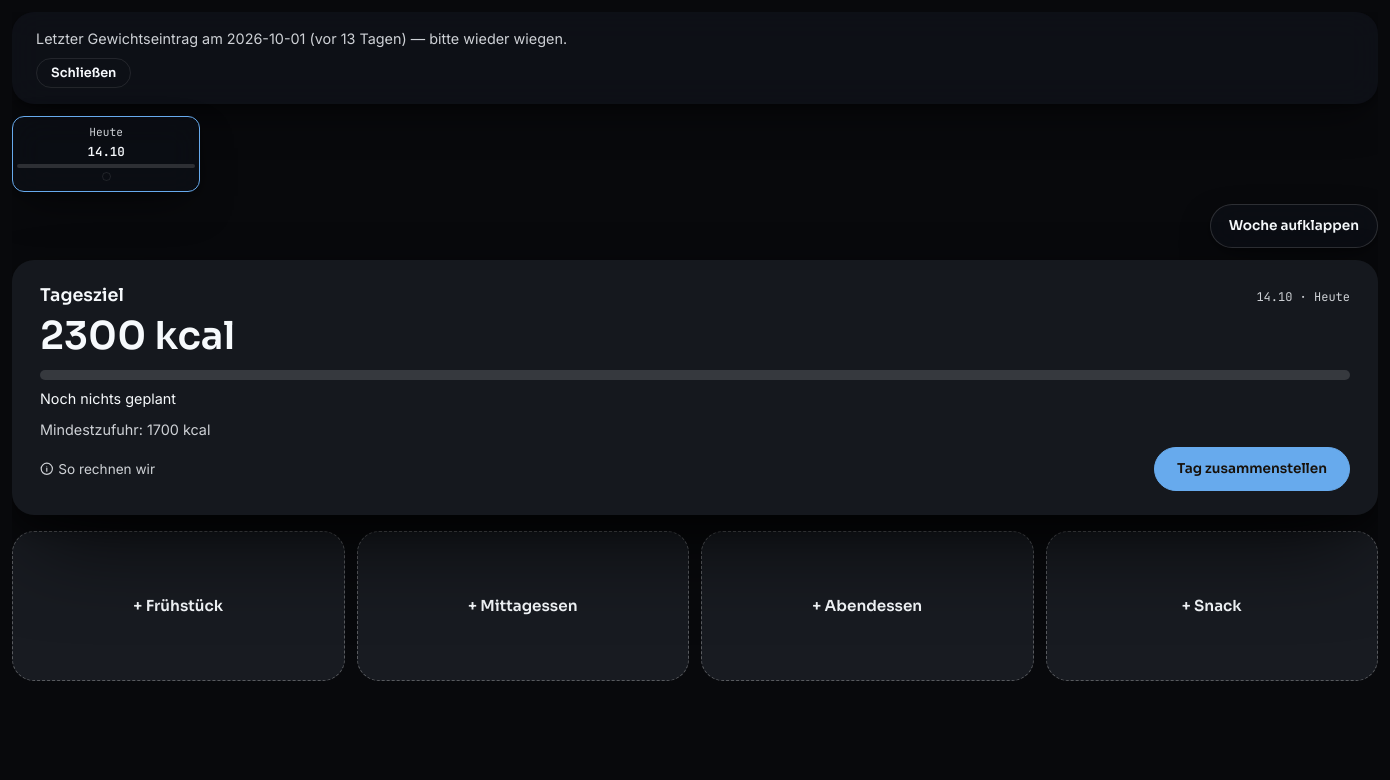
WeekView — Banner › lässt sich wegklicken und bleibt für diesen Tag weg
This screenshot has width=1390, height=780.
expect the text "bitte wieder wiegen" is shown: met, box 36,30 -> 567,47
Click the button "Schließen": (84, 73) 36,58 -> 131,88
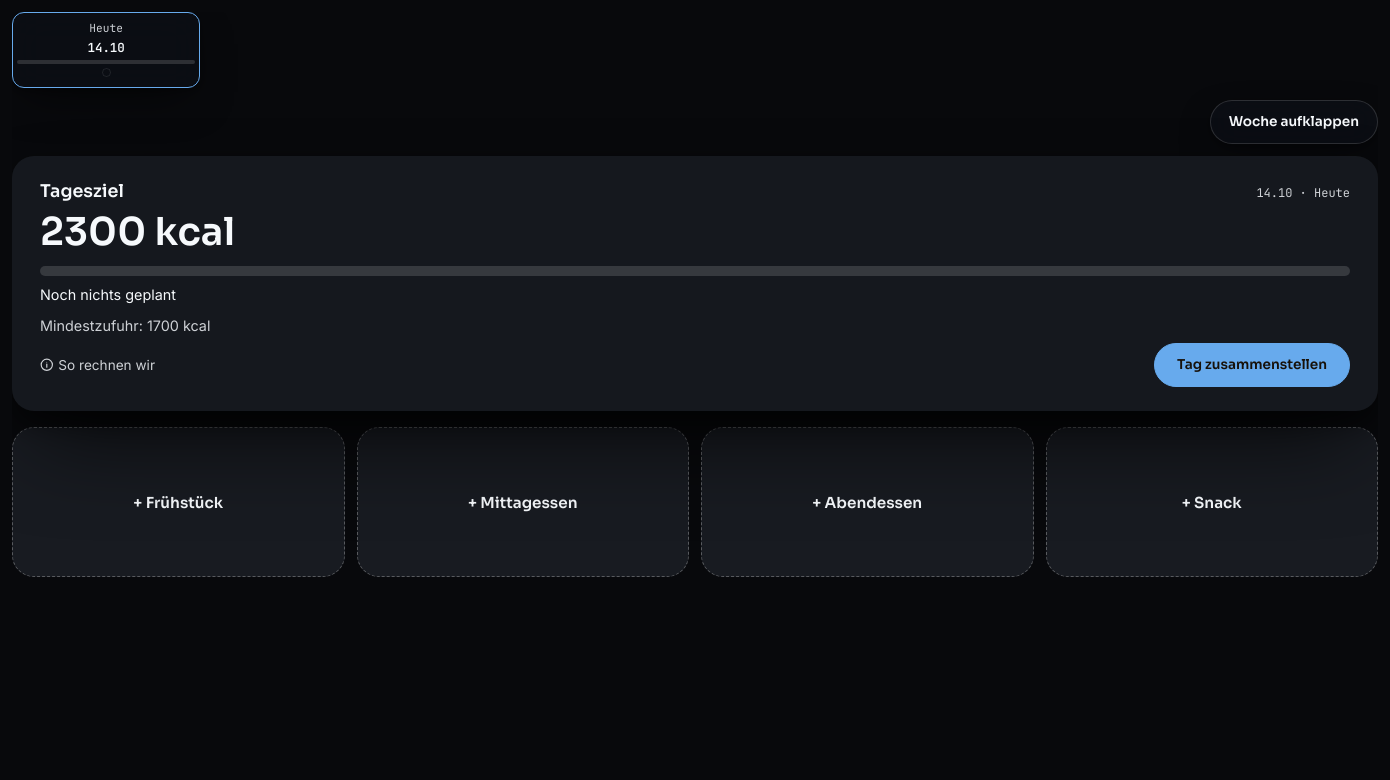
expect the text "bitte wieder wiegen" is gone: met
